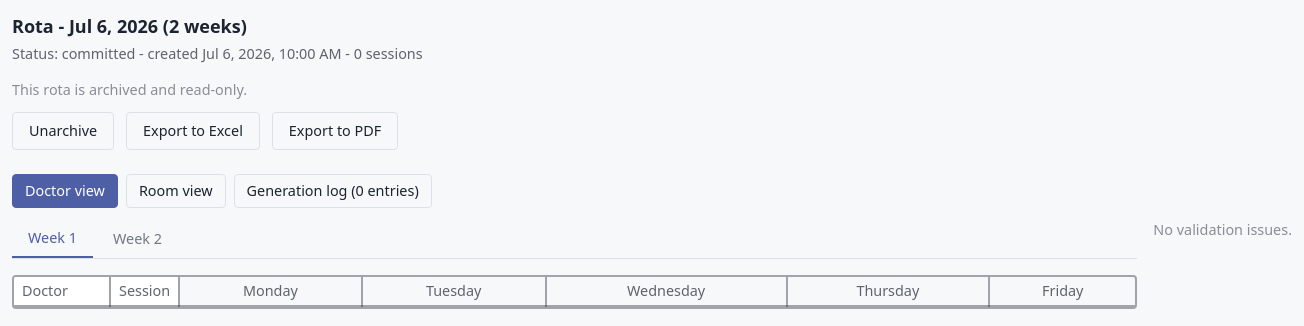
RotaDetailPage › unarchives without a confirmation prompt and re-renders the committed action buttons
Step 1. Click the button "Unarchive" → coordinates (63, 131), box [12, 112, 114, 150]
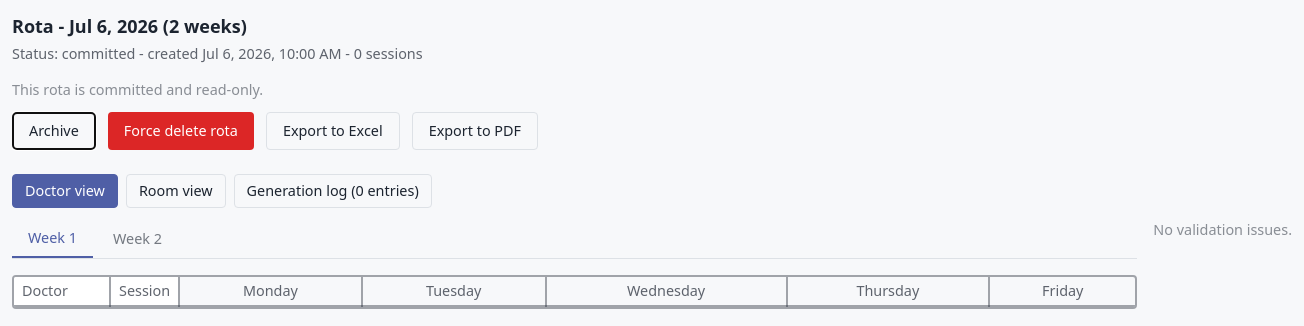
Expected: the button "Archive" is shown, [12, 112, 96, 150]
Expected: the button "Force delete rota" is shown, [108, 112, 254, 150]
